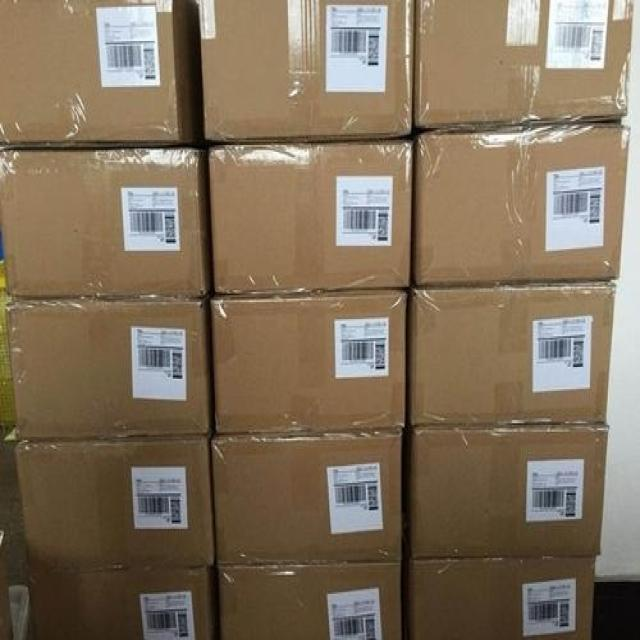box: (411, 119, 631, 285), (0, 145, 212, 299), (207, 138, 413, 294), (198, 0, 416, 142), (404, 280, 616, 425), (1, 0, 204, 150), (6, 299, 212, 442), (209, 288, 407, 435), (413, 0, 634, 130), (15, 435, 215, 568), (410, 423, 608, 556), (211, 430, 402, 565), (407, 556, 595, 640), (215, 560, 402, 640), (27, 565, 219, 640)
